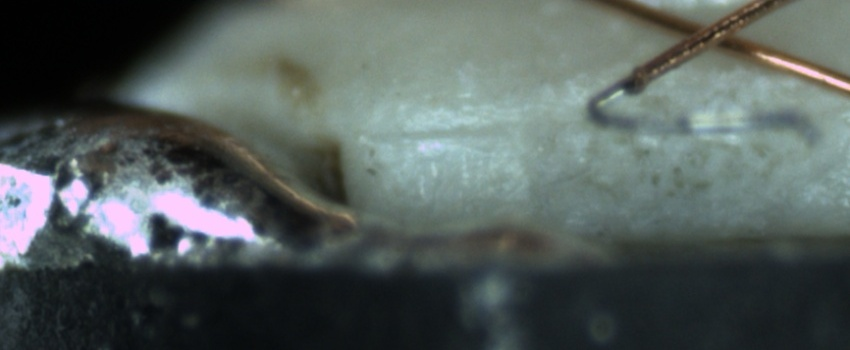CL: (659, 4, 755, 60)
DL: (373, 104, 637, 168)
